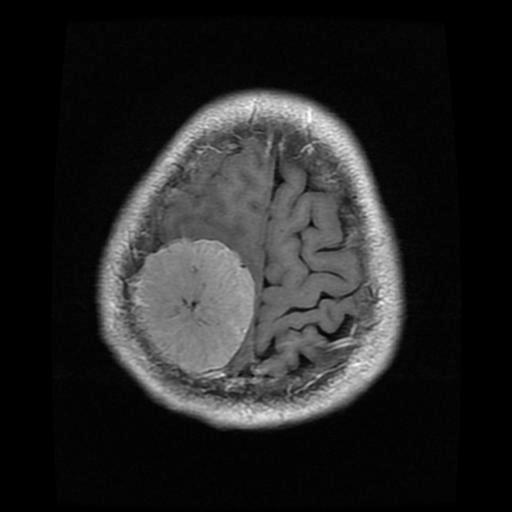Tumour-Meningioma: (147, 229, 261, 386)
